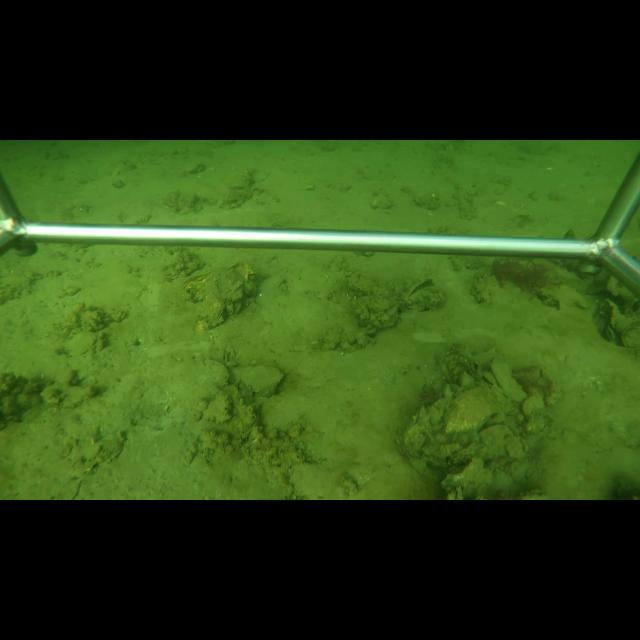Oyster-Closed: (444, 387, 505, 438), (230, 364, 289, 398), (489, 356, 529, 404), (402, 404, 433, 459), (63, 330, 100, 358), (198, 296, 225, 329)
Oyster-Open: (403, 276, 442, 307)
